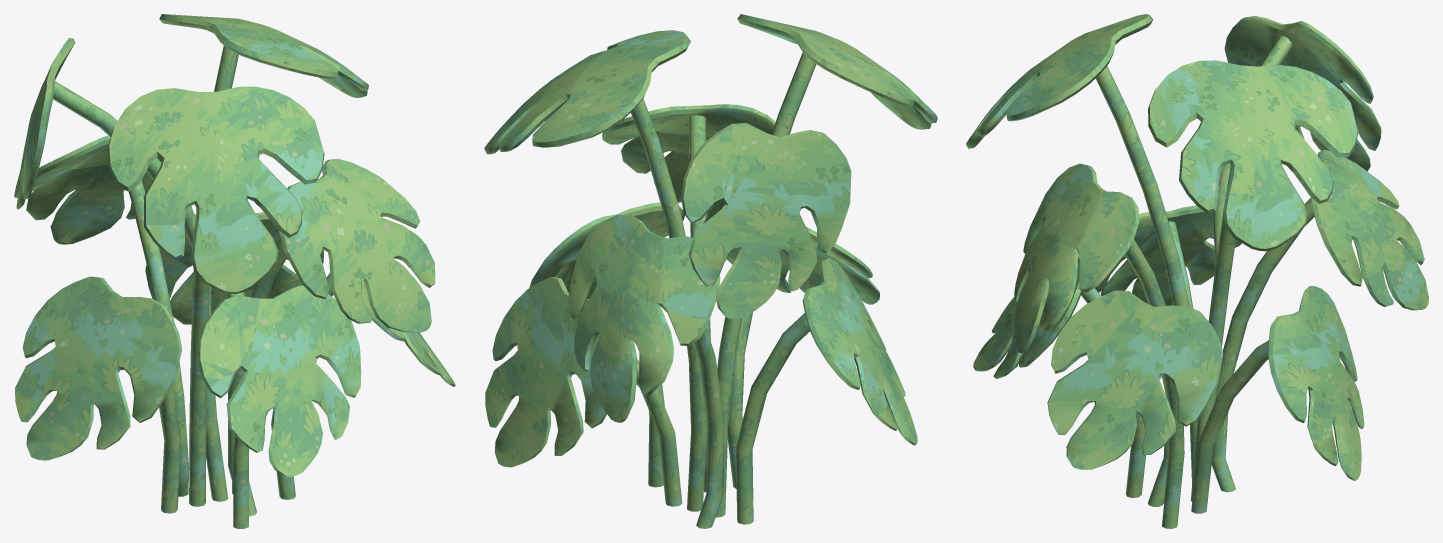
File: trop_monstera.glb
The picture shows the model from 3 angles, left to right: view 1: azimuth 30°, elevation 25°; view 2: azimuth 150°, elevation 25°; view 3: azimuth 270°, elevation 25°; orthographic projection. The views are drawn at different scales.
Parts seen in each view (by area): view 1: monstera_plant_large; view 2: monstera_plant_large; view 3: monstera_plant_large.
Part boxes in pixels (left/top/right/bottom): monstera_plant_large: left=14, top=14, right=455, bottom=528; monstera_plant_large: left=484, top=14, right=937, bottom=528; monstera_plant_large: left=966, top=14, right=1428, bottom=528.
Bounding box in the file's own units: 2.59 × 2.96 × 2.79.
Materials: 1 (1 with a texture image).
